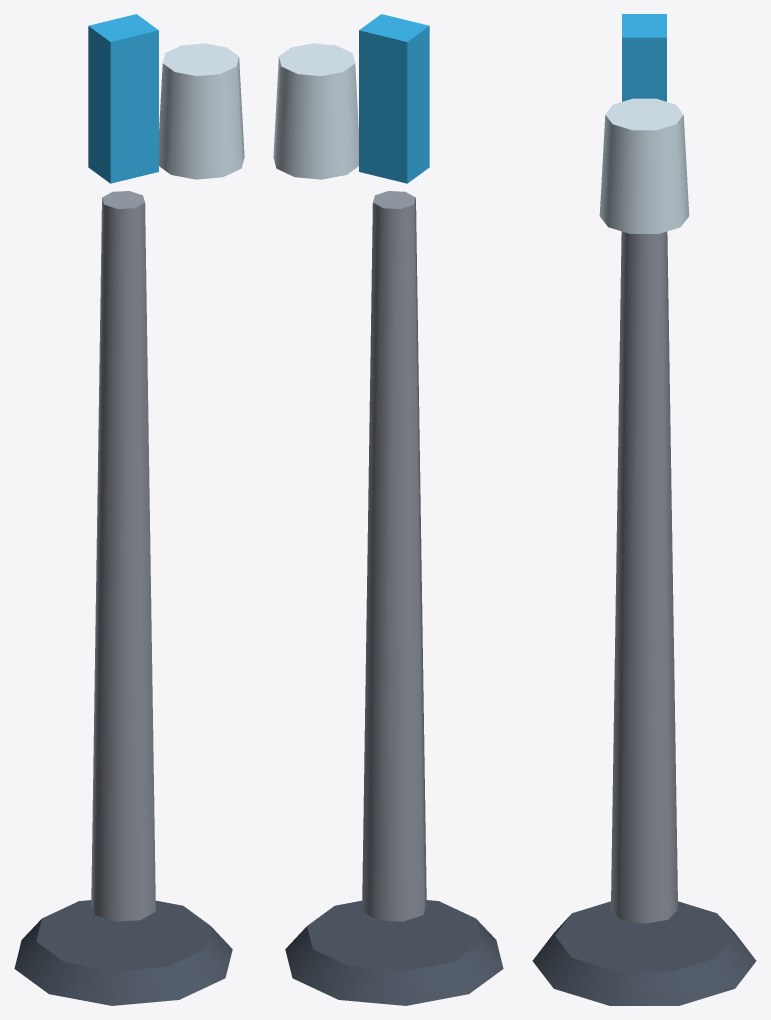
The model's file is parametric-source.glb.
3 renders of one model, left to right at view 1: azimuth 30°, elevation 25°; view 2: azimuth 150°, elevation 25°; view 3: azimuth 270°, elevation 25°, orthographic.
Parts seen in each view (by area): view 1: openclinxr.equipment.inhaler_spacer_equipment.stand, openclinxr.equipment.inhaler_spacer_equipment.base, openclinxr.equipment.inhaler_spacer_equipment.canister, openclinxr.equipment.inhaler_spacer_equipment.spacer; view 2: openclinxr.equipment.inhaler_spacer_equipment.stand, openclinxr.equipment.inhaler_spacer_equipment.base, openclinxr.equipment.inhaler_spacer_equipment.canister, openclinxr.equipment.inhaler_spacer_equipment.spacer; view 3: openclinxr.equipment.inhaler_spacer_equipment.stand, openclinxr.equipment.inhaler_spacer_equipment.base, openclinxr.equipment.inhaler_spacer_equipment.spacer, openclinxr.equipment.inhaler_spacer_equipment.canister.
Boxes of the visible parts, x1=… form: openclinxr.equipment.inhaler_spacer_equipment.stand: x1=91, y1=191, x2=155, y2=921; openclinxr.equipment.inhaler_spacer_equipment.base: x1=14, y1=900, x2=232, y2=1005; openclinxr.equipment.inhaler_spacer_equipment.canister: x1=88, y1=14, x2=158, y2=183; openclinxr.equipment.inhaler_spacer_equipment.spacer: x1=159, y1=43, x2=244, y2=179; openclinxr.equipment.inhaler_spacer_equipment.stand: x1=362, y1=191, x2=426, y2=921; openclinxr.equipment.inhaler_spacer_equipment.base: x1=285, y1=900, x2=503, y2=1005; openclinxr.equipment.inhaler_spacer_equipment.canister: x1=359, y1=14, x2=429, y2=183; openclinxr.equipment.inhaler_spacer_equipment.spacer: x1=273, y1=43, x2=358, y2=179; openclinxr.equipment.inhaler_spacer_equipment.stand: x1=611, y1=231, x2=677, y2=923; openclinxr.equipment.inhaler_spacer_equipment.base: x1=532, y1=901, x2=756, y2=1005; openclinxr.equipment.inhaler_spacer_equipment.spacer: x1=599, y1=98, x2=689, y2=233; openclinxr.equipment.inhaler_spacer_equipment.canister: x1=622, y1=14, x2=666, y2=101.
Bounding box in the file's own units: 0.2131 × 0.9205 × 0.2.
